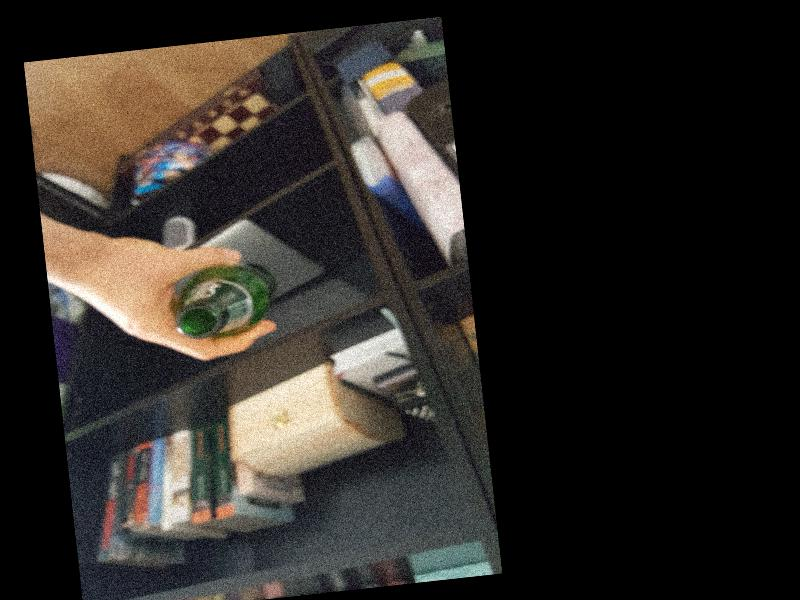Beer: (169, 255, 280, 340)
